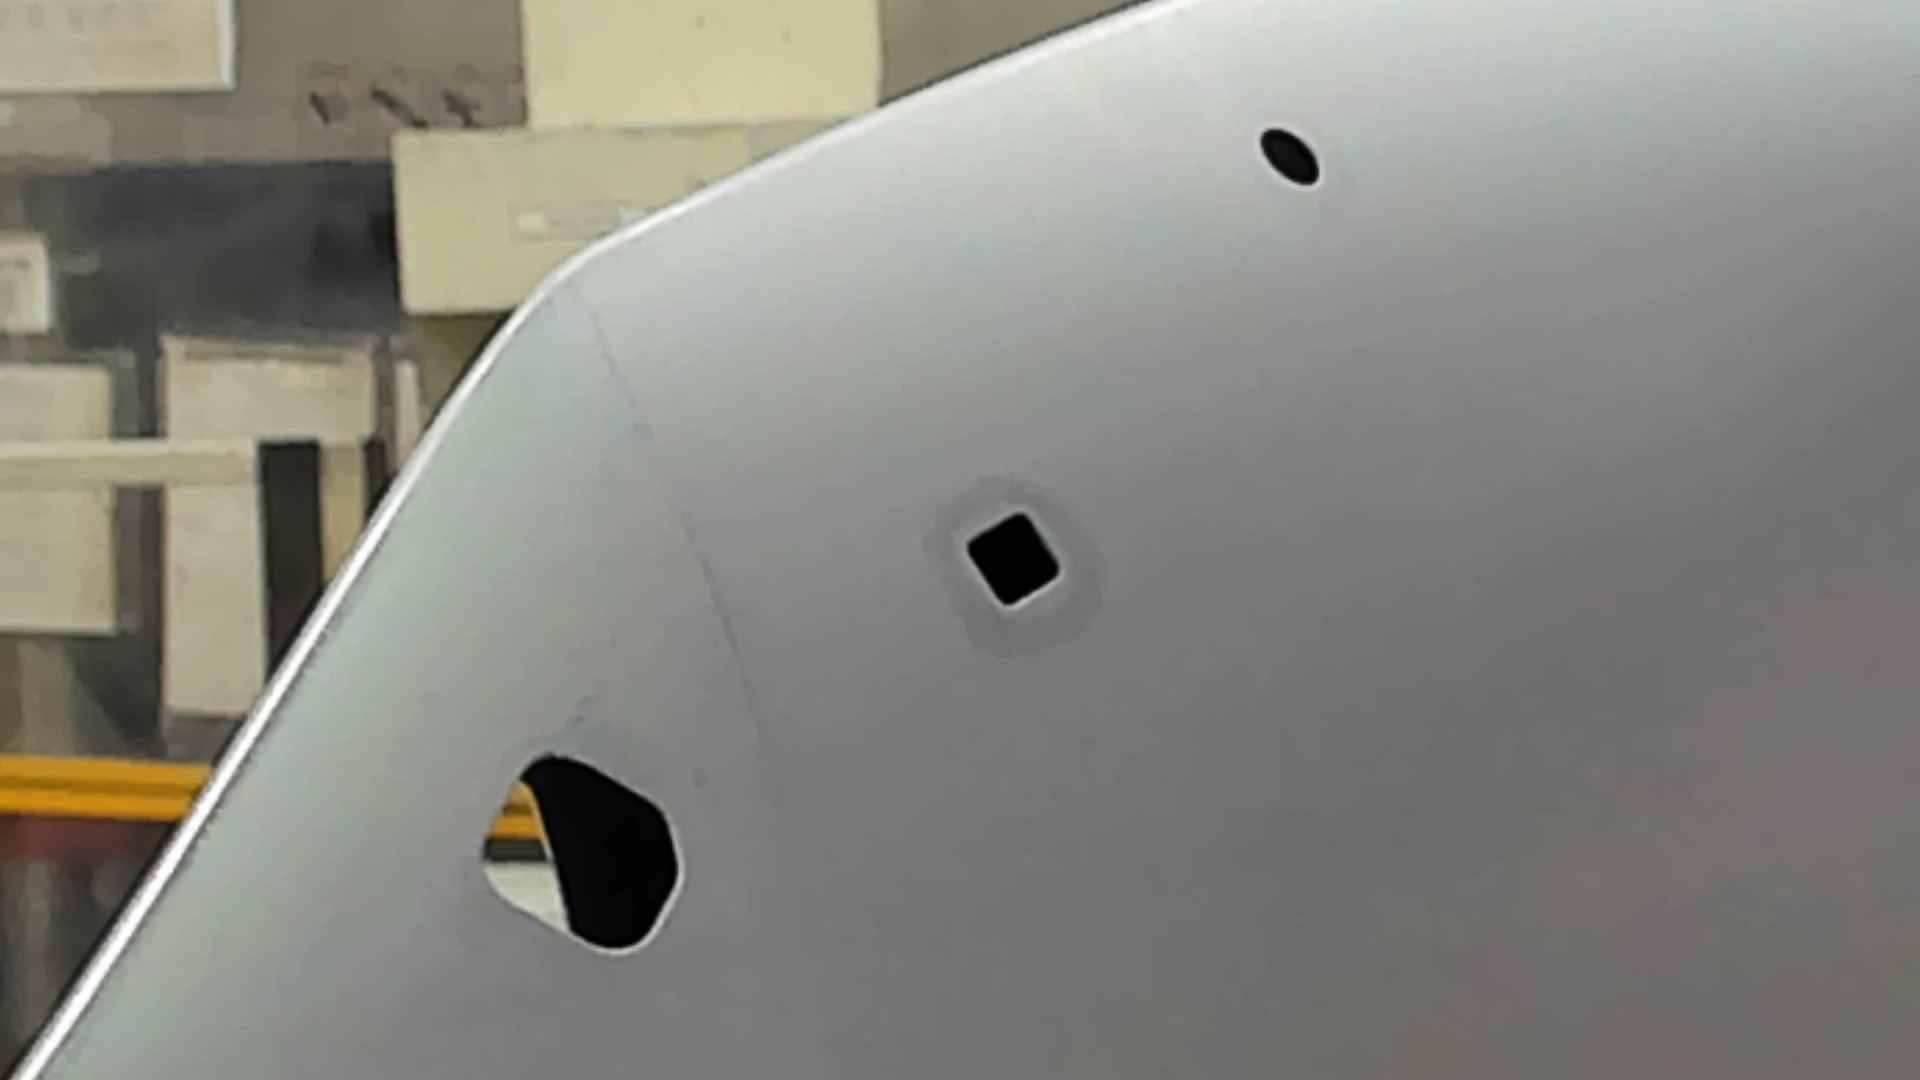chico: (1255, 123, 1325, 194)
grande: (477, 746, 688, 959)
mediano: (959, 505, 1069, 615)
